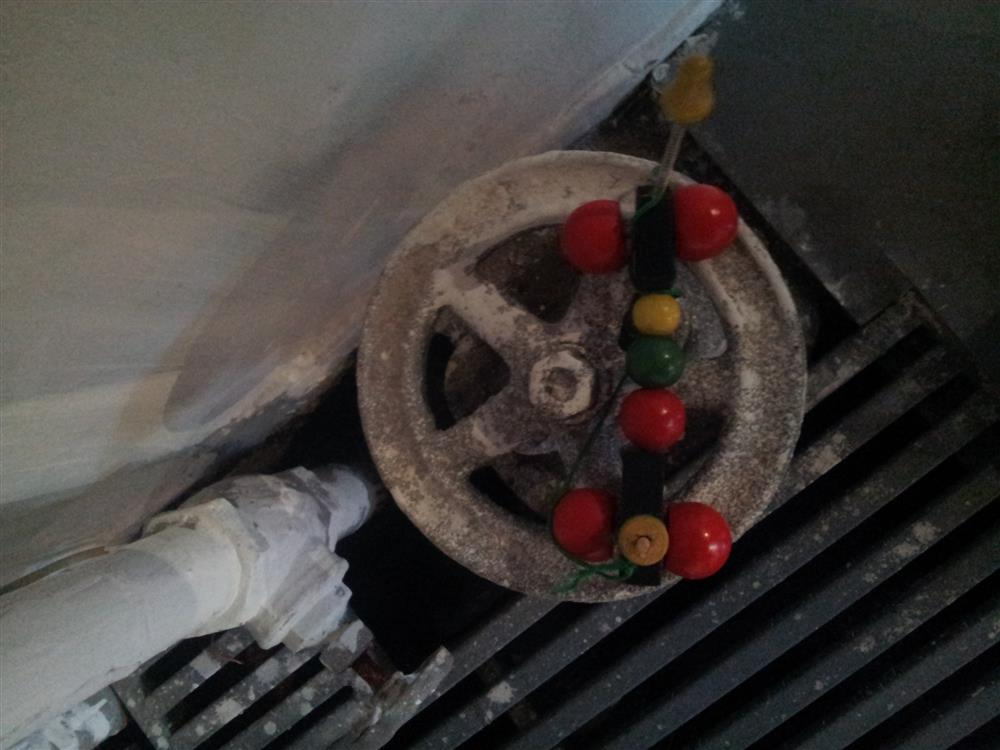caterpillar: (547, 46, 764, 590)
